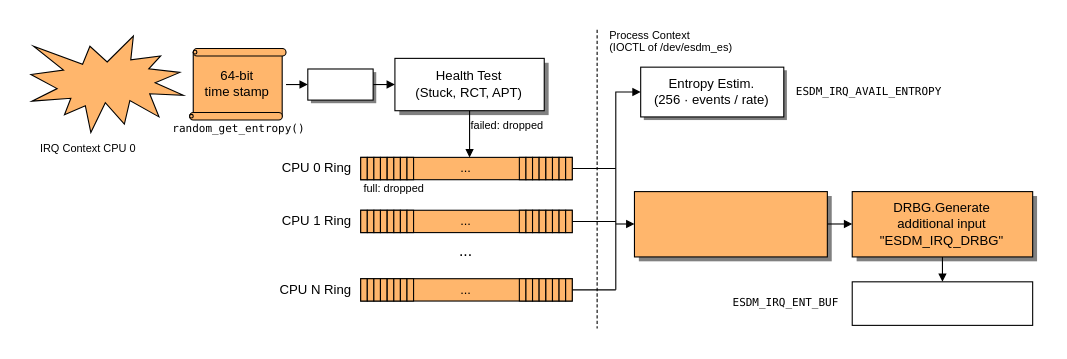
This 1067x359 diagram has some shape labels left out. Each missing label, with the centre of its shape:
"/ GCD" goes at point (339, 84).
"Interrupt ES Seed Data" goes at point (941, 302).
"IRQ" goes at point (106, 83).
"Kernel DRBG (XDRBG-256 or HMAC_DRBG) DRBG.Seed(events)" goes at point (730, 223).
